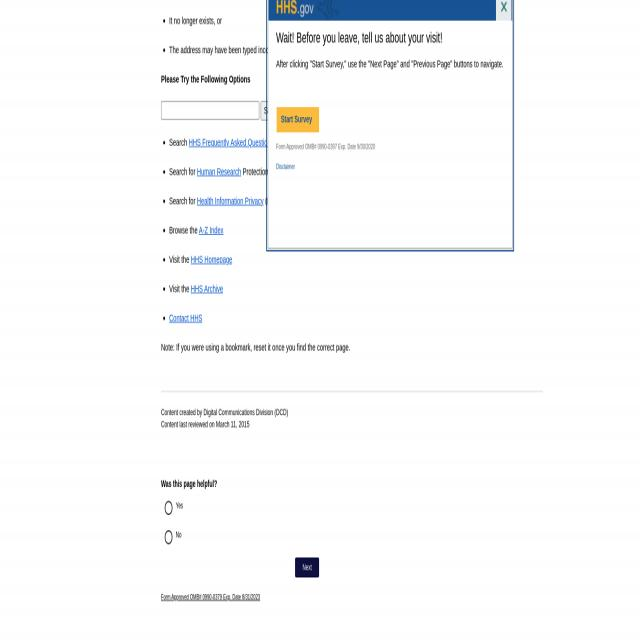button: (268, 0, 512, 21), (277, 107, 319, 132), (296, 557, 320, 577), (496, 0, 512, 21), (261, 101, 267, 120)
field: (161, 102, 259, 120), (164, 501, 173, 515), (165, 530, 172, 545)
